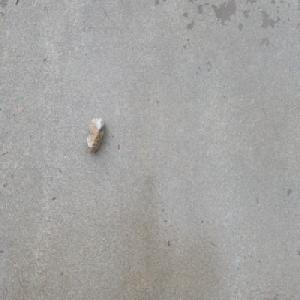Rock: (85, 114, 105, 154)
